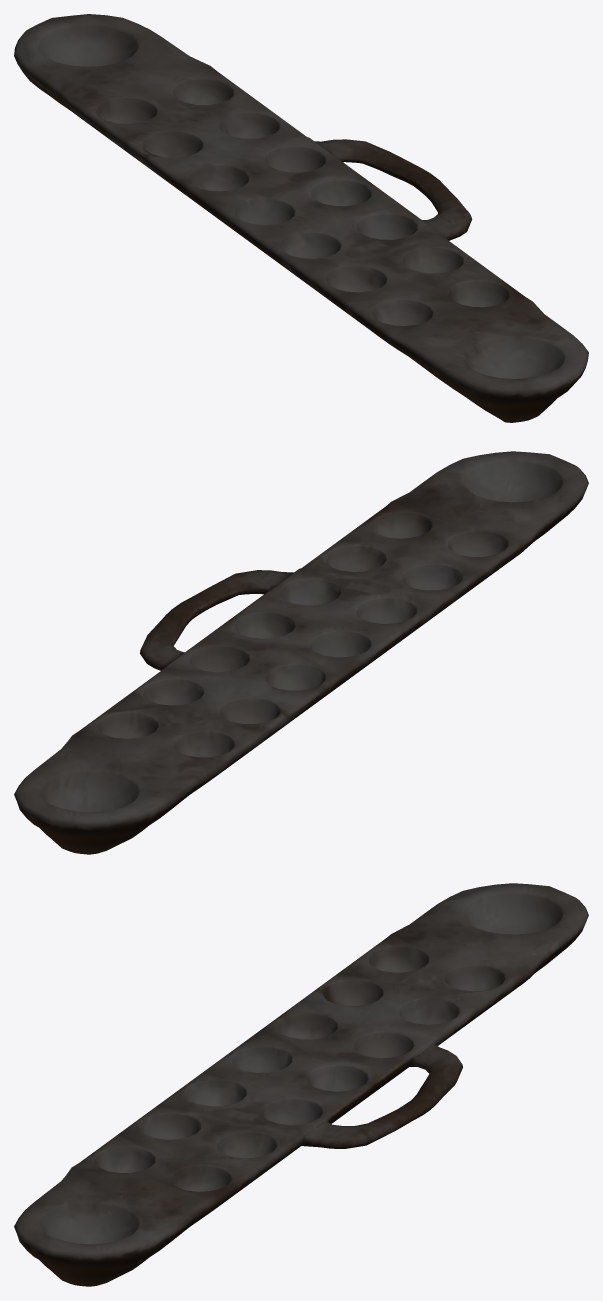
File: sungka_board.glb
3 renders of one model, top to bottom at view 1: azimuth 30°, elevation 25°; view 2: azimuth 150°, elevation 25°; view 3: azimuth 330°, elevation 25°, orthographic.
Parts seen in each view (by area): view 1: sungka_board; view 2: sungka_board; view 3: sungka_board.
Part boxes in pixels (x1,y1,x2,y2): sungka_board: (14,14,588,422); sungka_board: (14,451,588,854); sungka_board: (14,883,588,1286).
Bounding box in the file's own units: 0.14 × 0.0352 × 0.6006.
Materials: 1 (1 with a texture image).
